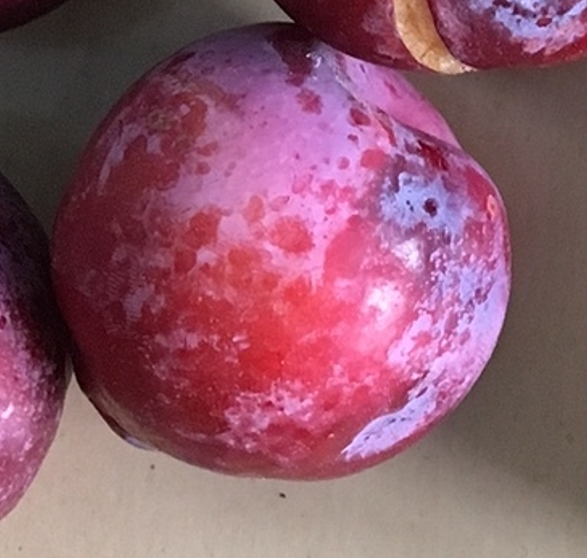plum_B: (48, 21, 512, 483)
